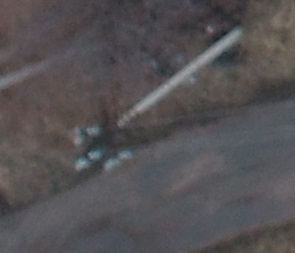opora: (66, 23, 244, 173)
